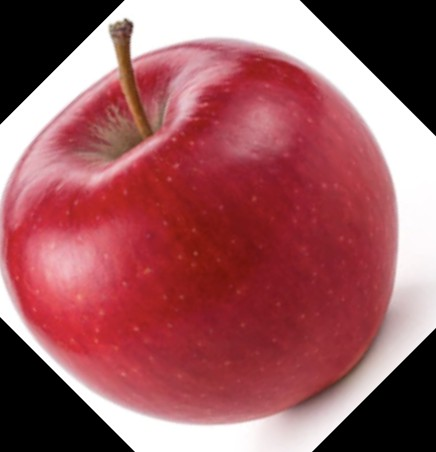fresh_apple: (3, 34, 402, 427)
